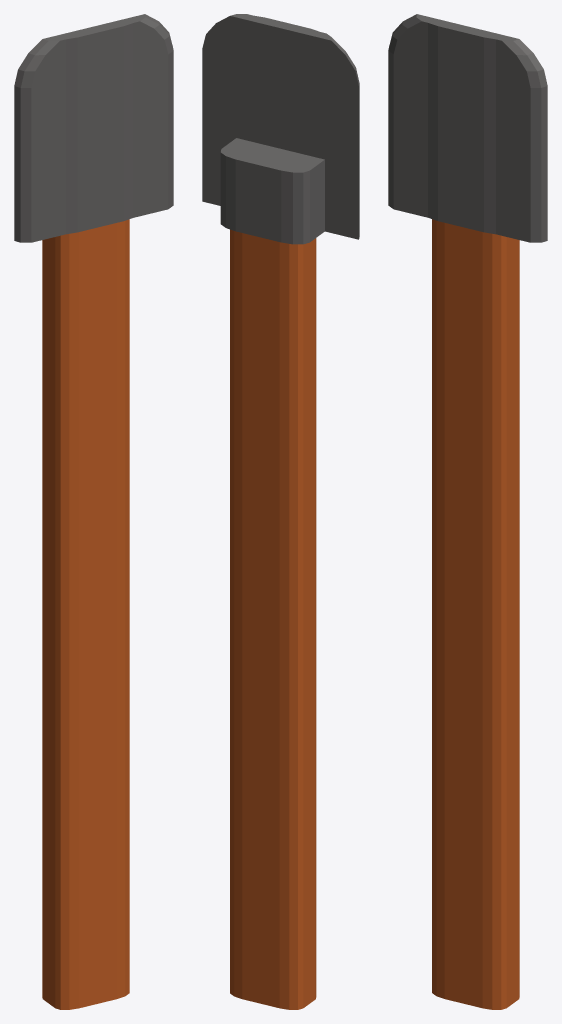
The model's file is Showel.fbx.
3 views of the same model, side by side, from view 1: azimuth 30°, elevation 25°; view 2: azimuth 150°, elevation 25°; view 3: azimuth 330°, elevation 25° (orthographic).
Parts seen in each view (by area): view 1: Showel; view 2: Showel; view 3: Showel.
Boxes of the visible parts, x1,y1,x2,y2 form: Showel: [14, 14, 173, 1009]; Showel: [202, 14, 359, 1009]; Showel: [388, 14, 547, 1009].
Bounding box in the file's own units: 18.45 × 108 × 5.98.
